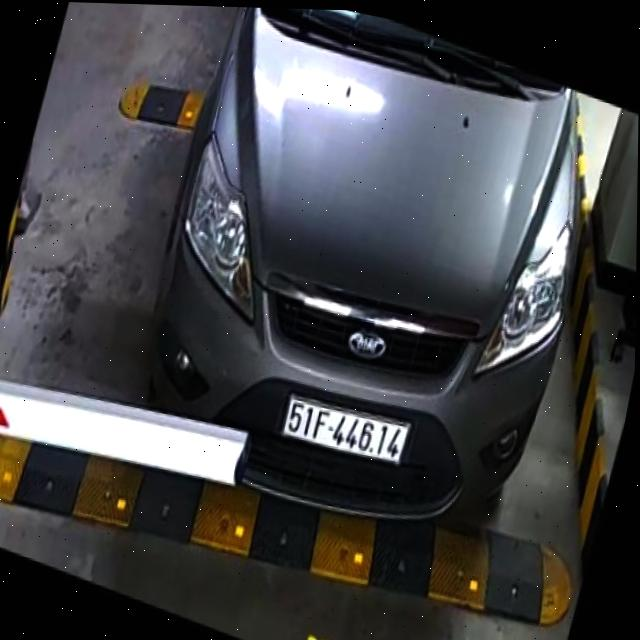car: (132, 4, 619, 560)
plate: (275, 384, 416, 472)
